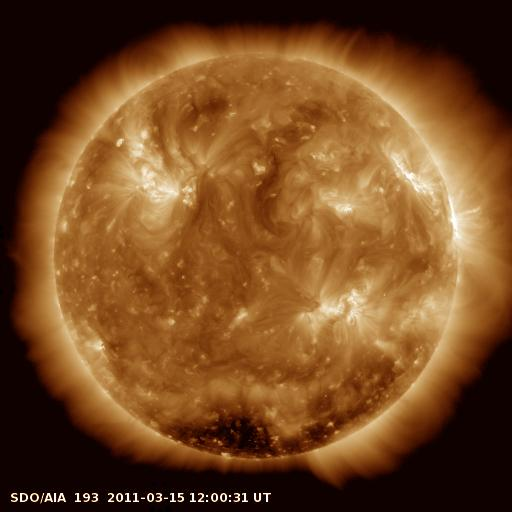coronal_hole: (152, 370, 396, 463)
